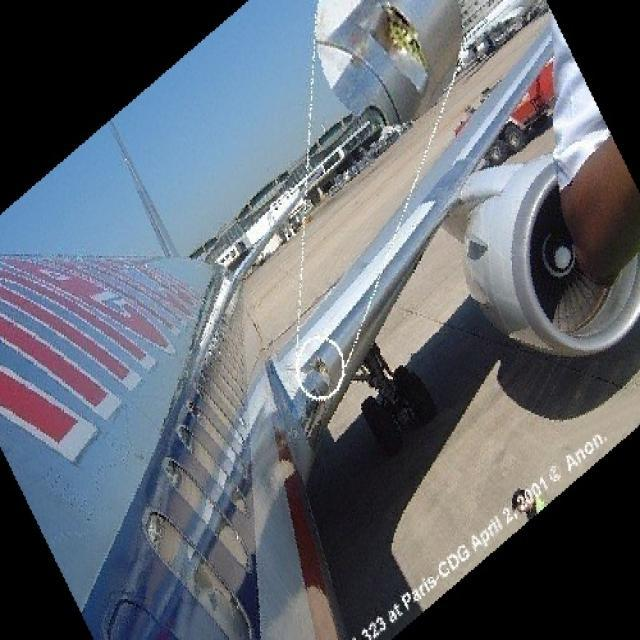dent: (366, 15, 434, 92), (311, 346, 328, 380)
